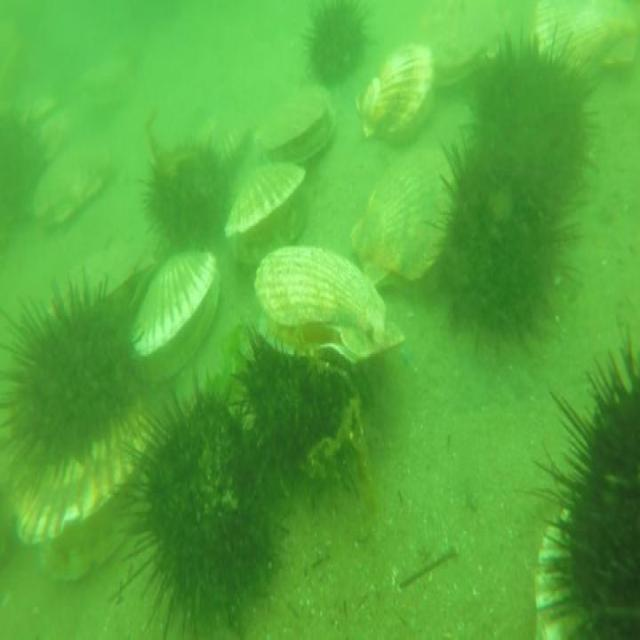echinus: (122, 377, 280, 640), (537, 309, 640, 640), (436, 130, 584, 354), (1, 277, 145, 482), (234, 321, 356, 512), (469, 29, 596, 160), (138, 133, 229, 251), (298, 2, 370, 88), (0, 100, 46, 226)
scallop: (18, 402, 156, 586), (252, 242, 408, 368), (348, 147, 455, 299), (128, 251, 222, 378), (226, 156, 312, 272), (356, 40, 442, 152), (530, 0, 640, 87), (34, 133, 114, 242), (531, 482, 582, 640), (252, 79, 338, 172), (424, 24, 489, 92)
